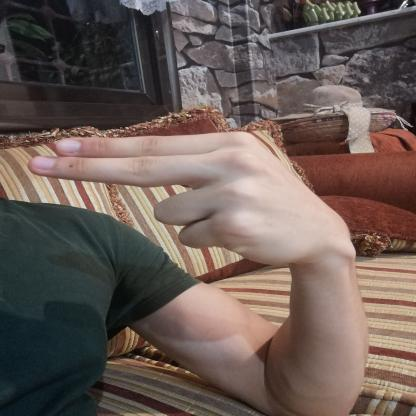AYN: (13, 120, 369, 273)
